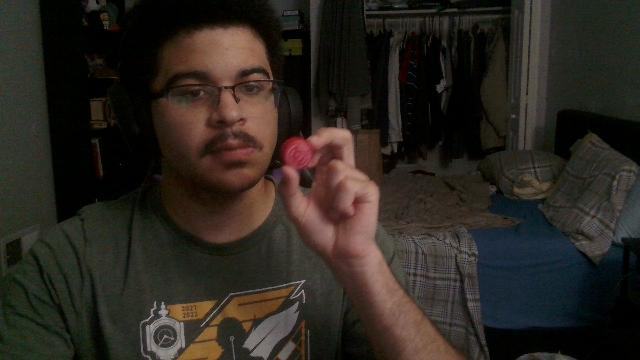cap: (282, 138, 314, 168)
